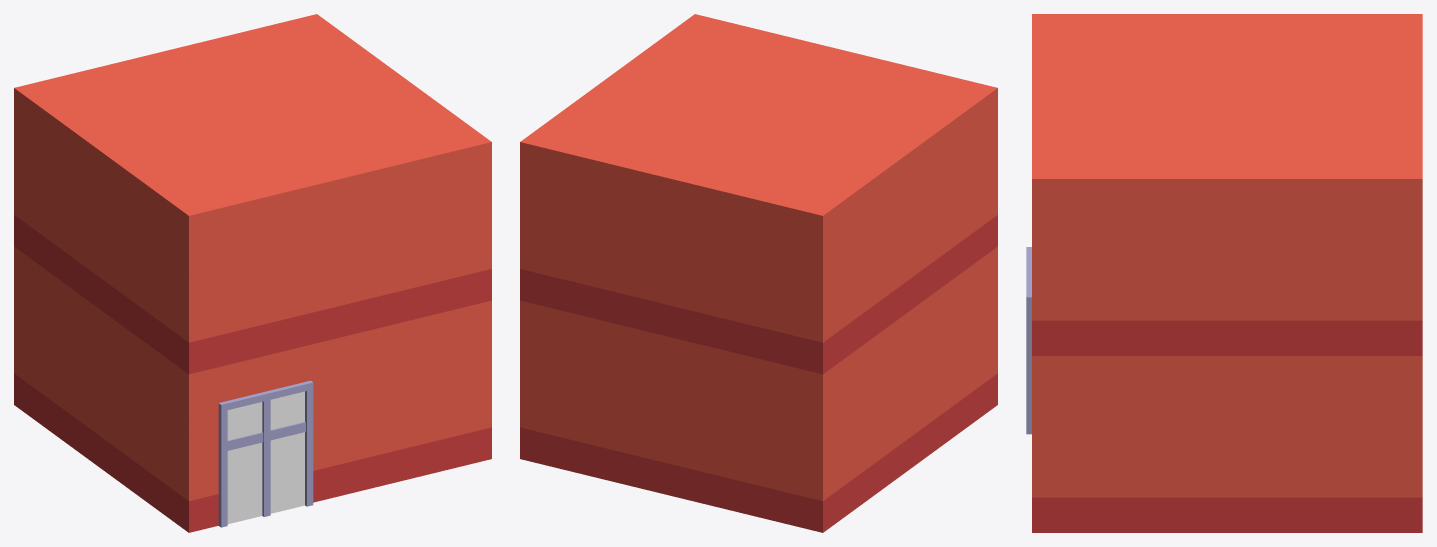
Rendered from warehouse.fbx.
The picture shows the model from 3 angles, left to right: view 1: azimuth 30°, elevation 25°; view 2: azimuth 150°, elevation 25°; view 3: azimuth 270°, elevation 25°; orthographic projection. The views are drawn at different scales.
Visible parts, largest first — view 1: mergedBlocks; view 2: mergedBlocks; view 3: mergedBlocks.
Part boxes in pixels (x1,y1,x2,y2): mergedBlocks: [14, 14, 491, 532]; mergedBlocks: [520, 14, 997, 532]; mergedBlocks: [1026, 14, 1422, 532].
Size of the model in its own units: 0.2 by 0.2 by 0.203.
